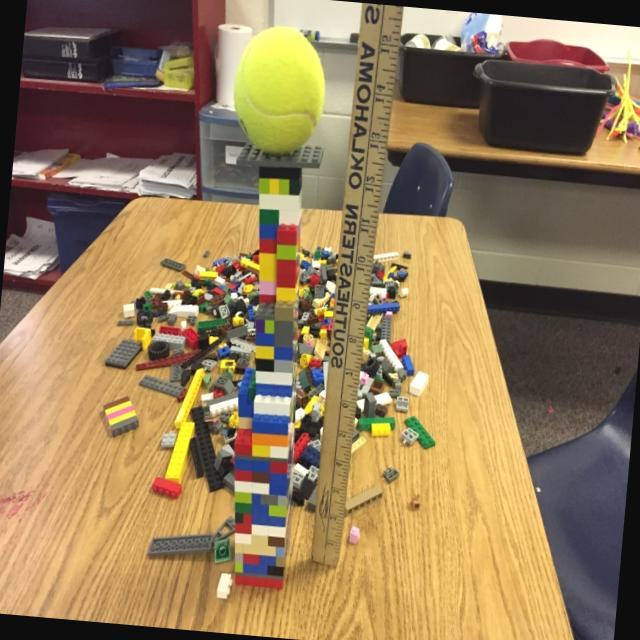Tennis Ball: (226, 19, 336, 156)
